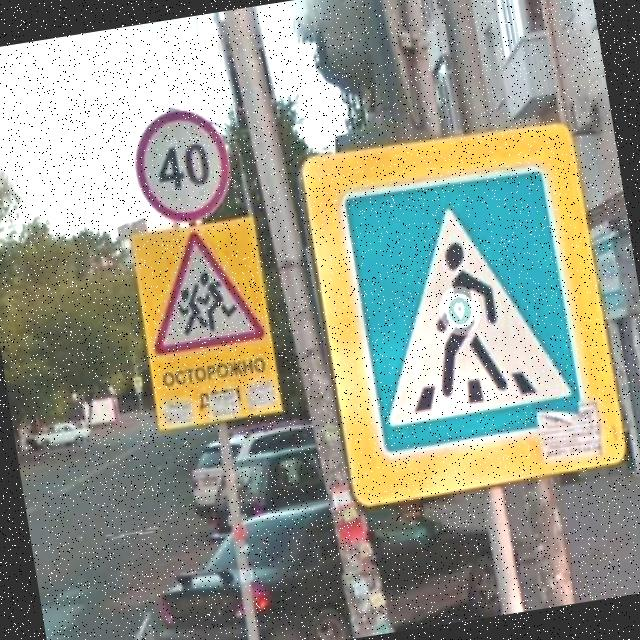Dzieci: (138, 222, 268, 358)
Ograniczenie predkosci do 40: (127, 101, 239, 230)
Przejscie dla pieszych: (296, 114, 628, 511)
